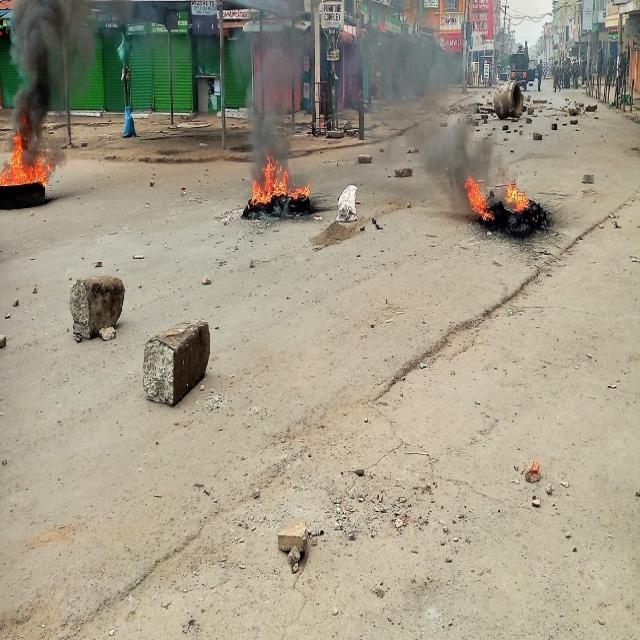Fire: (248, 160, 310, 207), (2, 134, 49, 188), (466, 175, 488, 222), (503, 179, 529, 213)
Smoke: (389, 42, 458, 166), (241, 42, 297, 144), (20, 5, 60, 121)
